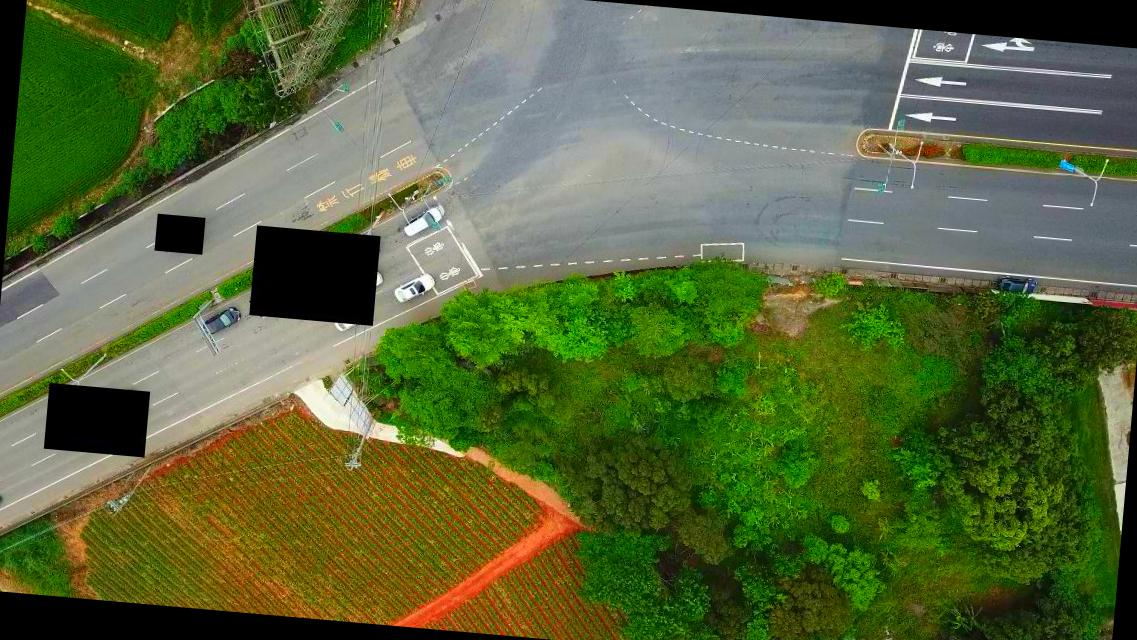vehicle: (400, 199, 446, 242), (342, 266, 383, 304), (202, 306, 242, 342), (391, 273, 434, 306), (331, 302, 372, 334), (992, 274, 1038, 298), (0, 490, 5, 514)
